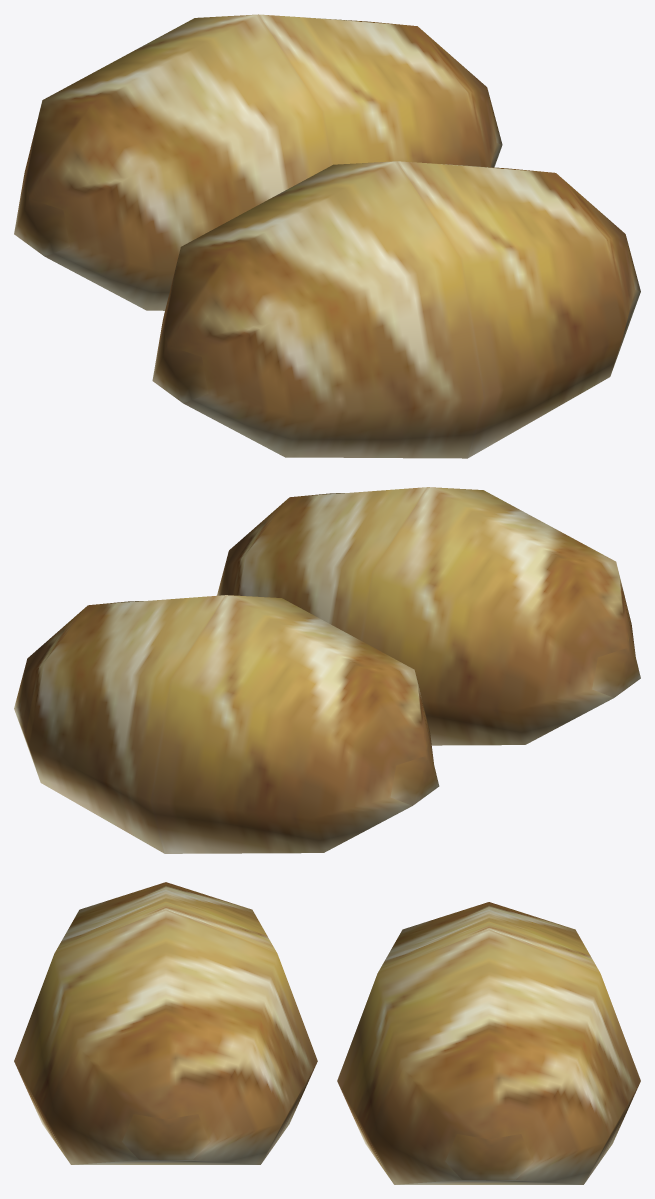
Rendered from OZ_20_wv_bread01B.glb.
3 views of the same model, one above another, from view 1: azimuth 30°, elevation 25°; view 2: azimuth 150°, elevation 25°; view 3: azimuth 270°, elevation 25° (orthographic). The views are drawn at different scales.
Visible parts, largest first — view 1: OM_20_wv_bread01B; view 2: OM_20_wv_bread01B; view 3: OM_20_wv_bread01B.
Boxes of the visible parts, x1,y1,x2,y2 form: OM_20_wv_bread01B: [14, 14, 640, 458]; OM_20_wv_bread01B: [14, 487, 640, 853]; OM_20_wv_bread01B: [14, 882, 640, 1184].
Size of the model in its own units: 0.3114 by 0.1448 by 0.3837.
1 material, 1 textured.
